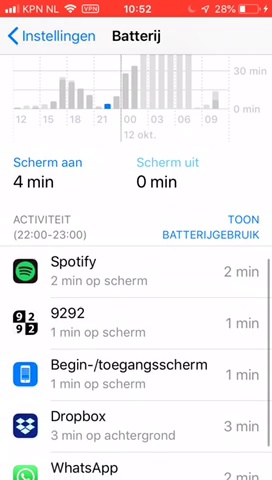activity: (10, 212, 90, 241)
app: (10, 253, 264, 292), (8, 302, 262, 341), (9, 353, 263, 392), (9, 404, 263, 443)
